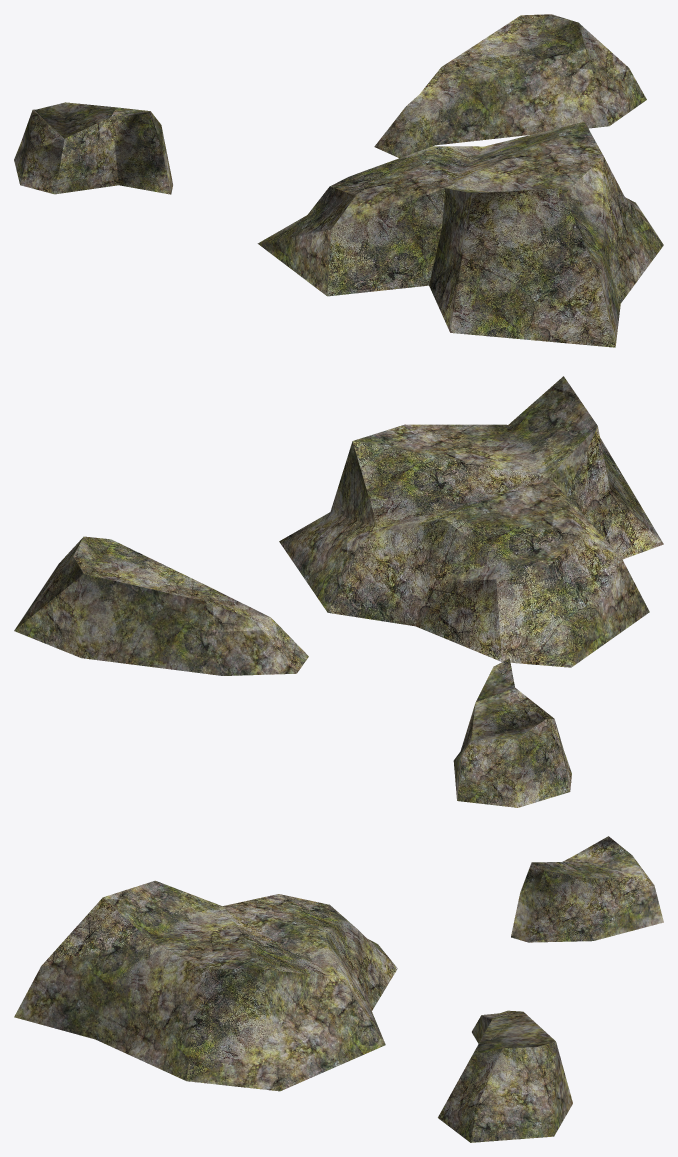
3 views of the same model, one above another, from view 1: azimuth 30°, elevation 25°; view 2: azimuth 150°, elevation 25°; view 3: azimuth 270°, elevation 25° (orthographic). The views are drawn at different scales.
Parts seen in each view (by area): view 1: _r_grp1B; view 2: _r_grp1B; view 3: _r_grp1B.
Boxes of the visible parts, bbox=[...] form: _r_grp1B: bbox=[14, 14, 663, 347]; _r_grp1B: bbox=[14, 376, 663, 807]; _r_grp1B: bbox=[14, 836, 663, 1142].
Bounding box in the file's own units: 17.76 × 3.84 × 19.33.
1 material, 1 textured.
